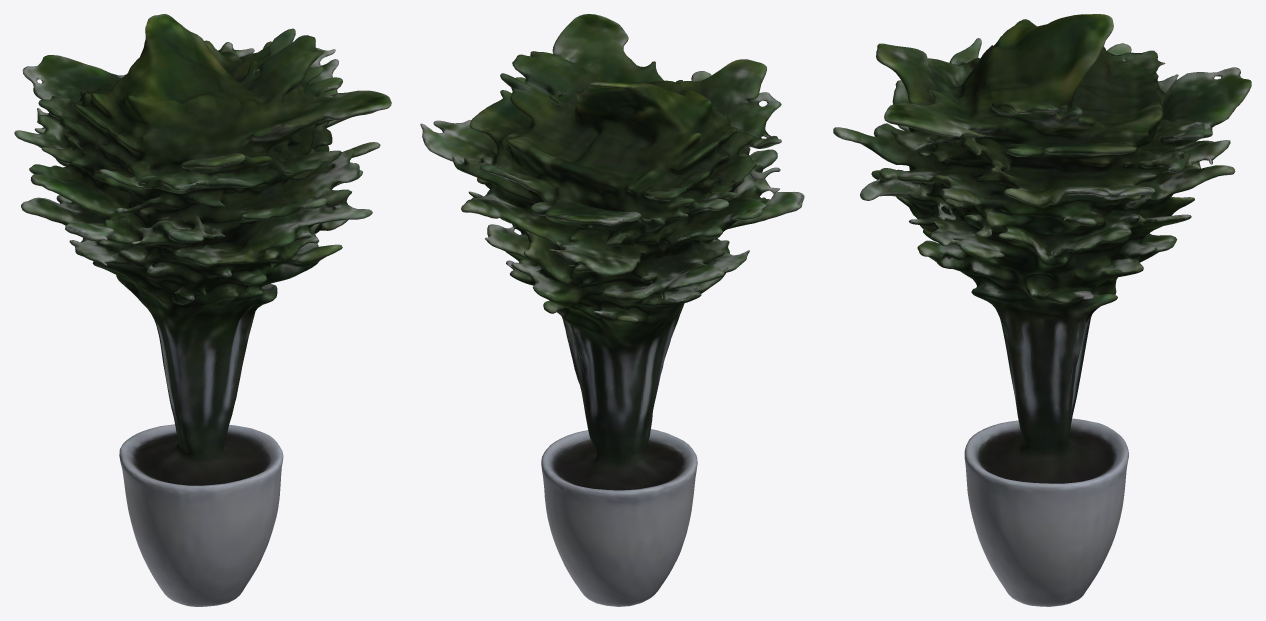
Rendered from 4a5bc4b35771_ornamental_office_p.fbx.
3 renders of one model, left to right at view 1: azimuth 30°, elevation 25°; view 2: azimuth 150°, elevation 25°; view 3: azimuth 270°, elevation 25°, orthographic. The views are drawn at different scales.
Parts seen in each view (by area): view 1: high_poly; view 2: high_poly; view 3: high_poly.
Part boxes in pixels (<box>): high_poly: <box>14,14,391,606</box>; high_poly: <box>420,14,804,606</box>; high_poly: <box>833,14,1251,606</box>.
Bounding box in the file's own units: 62.25 × 100 × 66.81.
